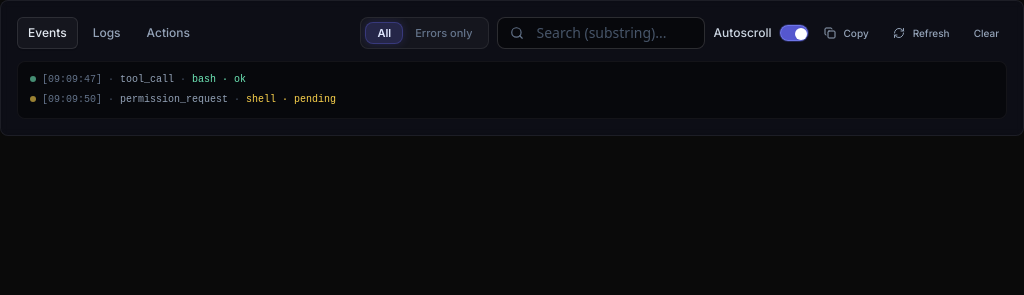
Test case: DevboxConsole tabs › renders the gateway source chip from the RPC payload and its lines when selected
Click the button with test id "devbox-console-tab-logs" at (107, 33), box [82, 17, 132, 49]
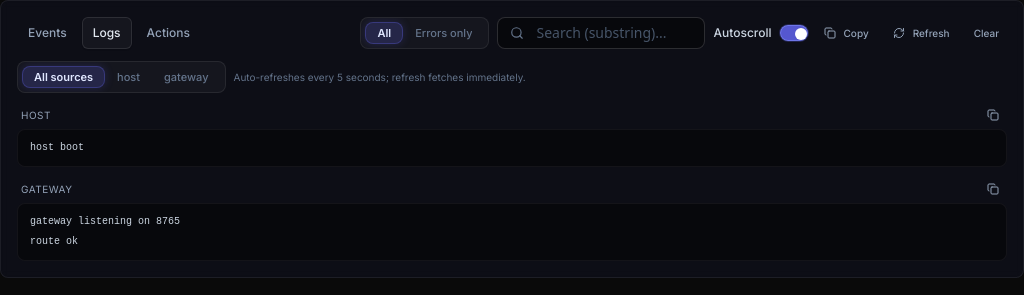
Expected: the element with test id "devbox-logs-source-gateway" is shown, [17, 203, 1007, 261]
Expected: the 1st text "gateway" is shown, [164, 69, 208, 85]
Expected: the element with test id "devbox-logs-source-gateway" shows "gateway listening on 8765", [30, 216, 180, 227]
Click the button "gateway" at (186, 77), box [152, 65, 220, 89]
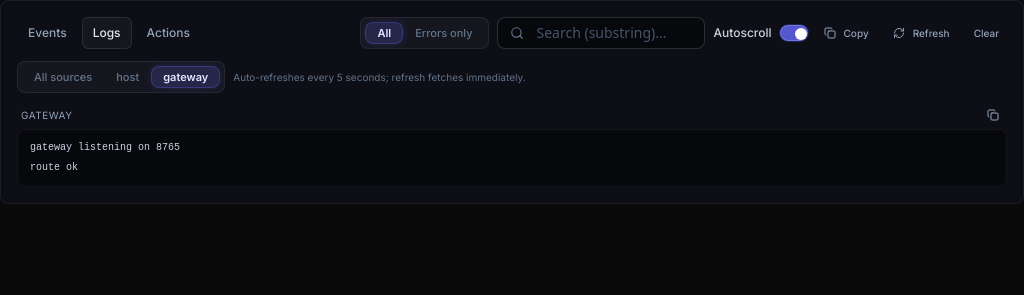
Expected: the element with test id "devbox-logs-source-gateway" shows "route ok", [30, 162, 78, 173]
Expected: the element with test id "devbox-logs-source-host" is gone
